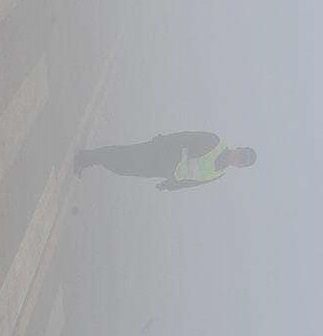person: (73, 130, 255, 192)
